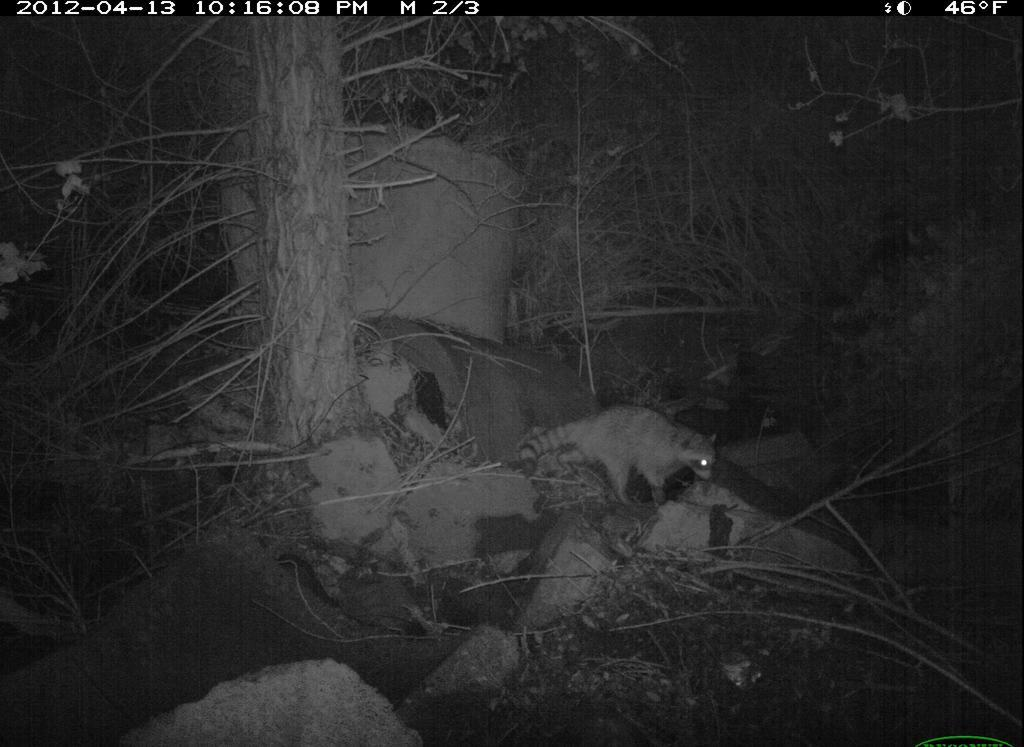raccoon: (516, 395, 726, 518)
